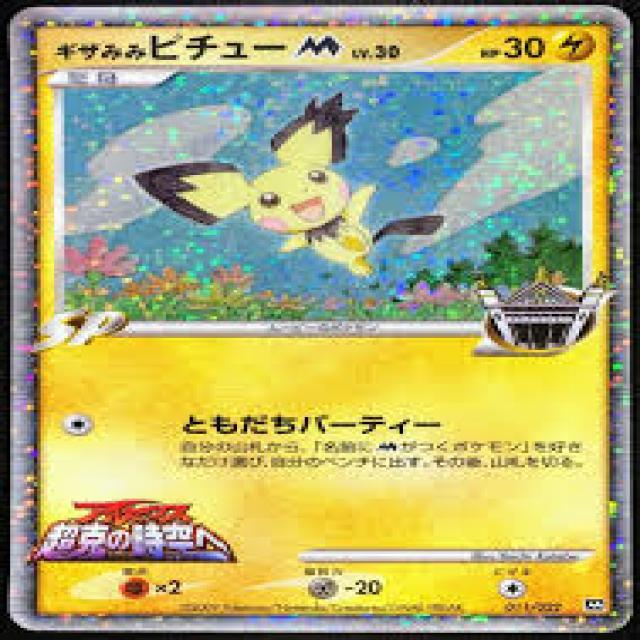pichu: (134, 110, 501, 300)
